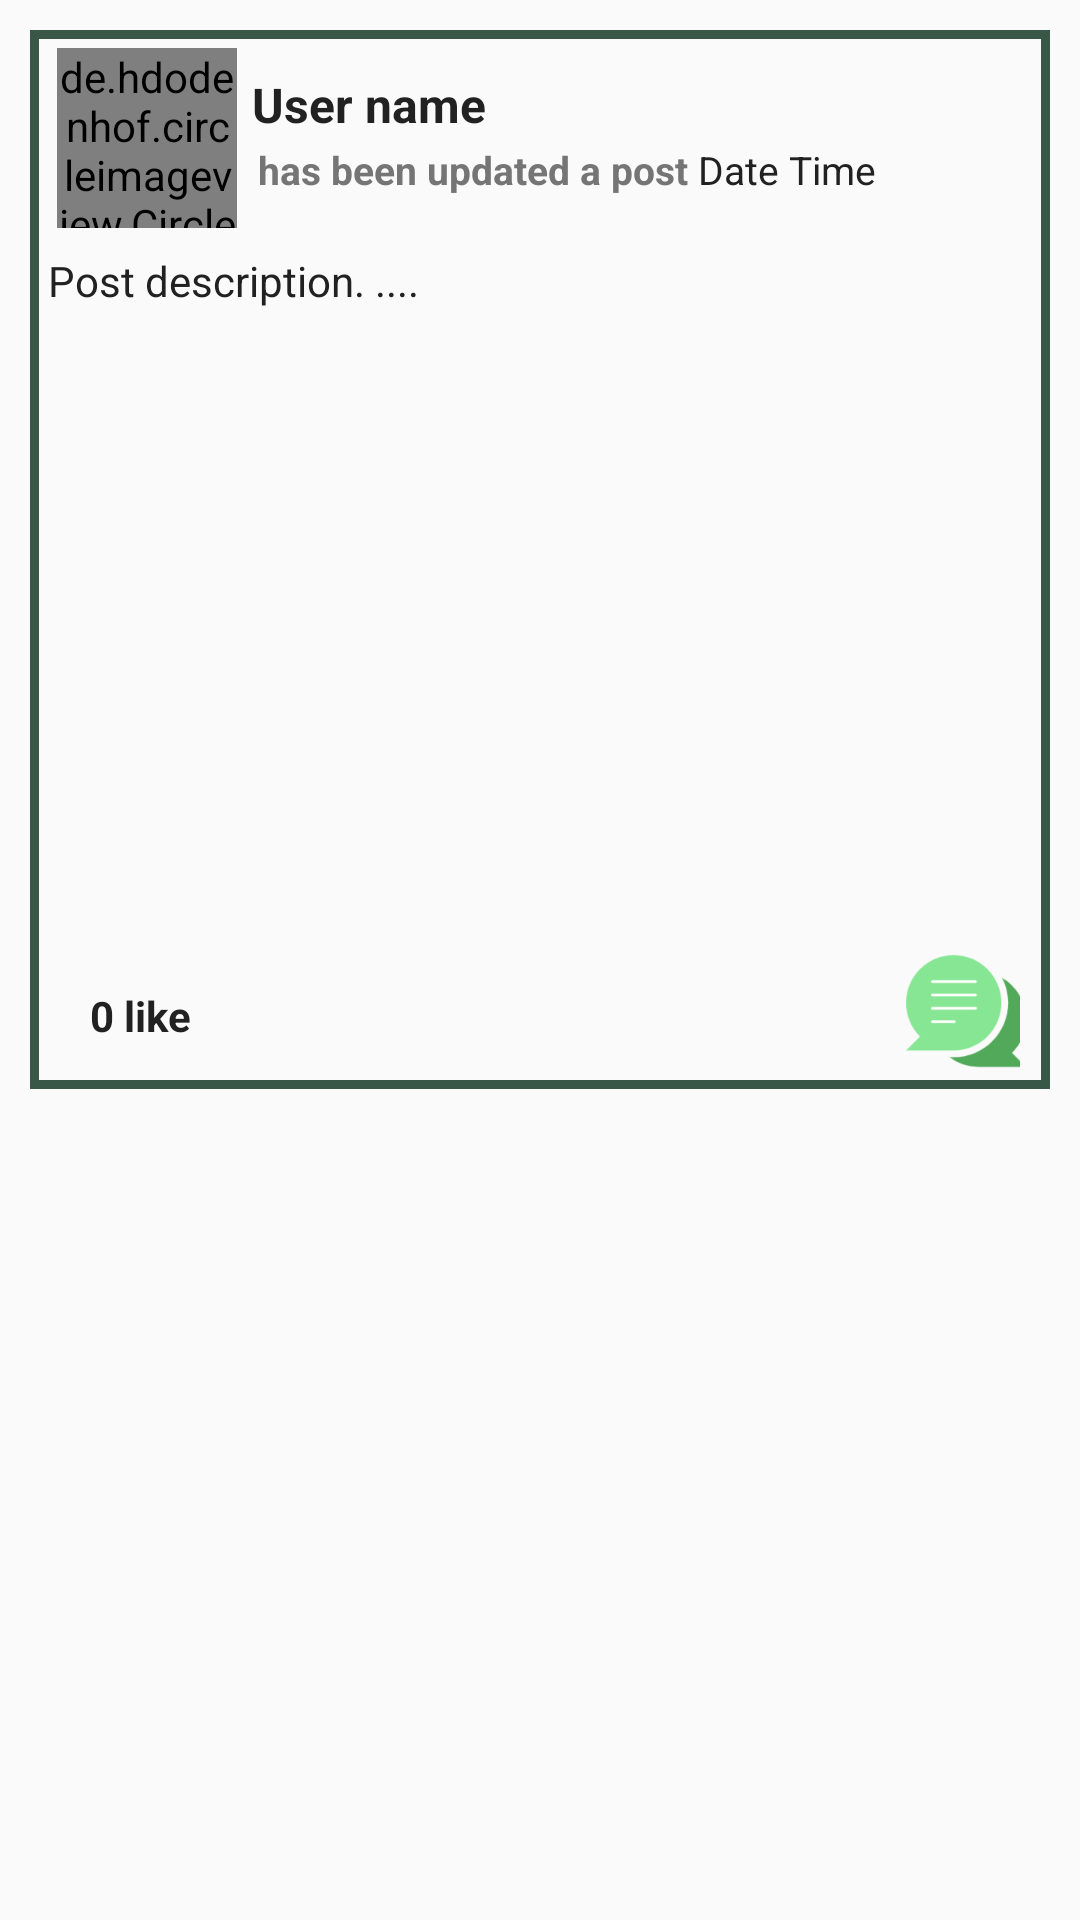

Where icons sit on this 1080 × 1920 app screen, as (x1, y1, x2, y2):
comment: (906, 955, 1020, 1067)
